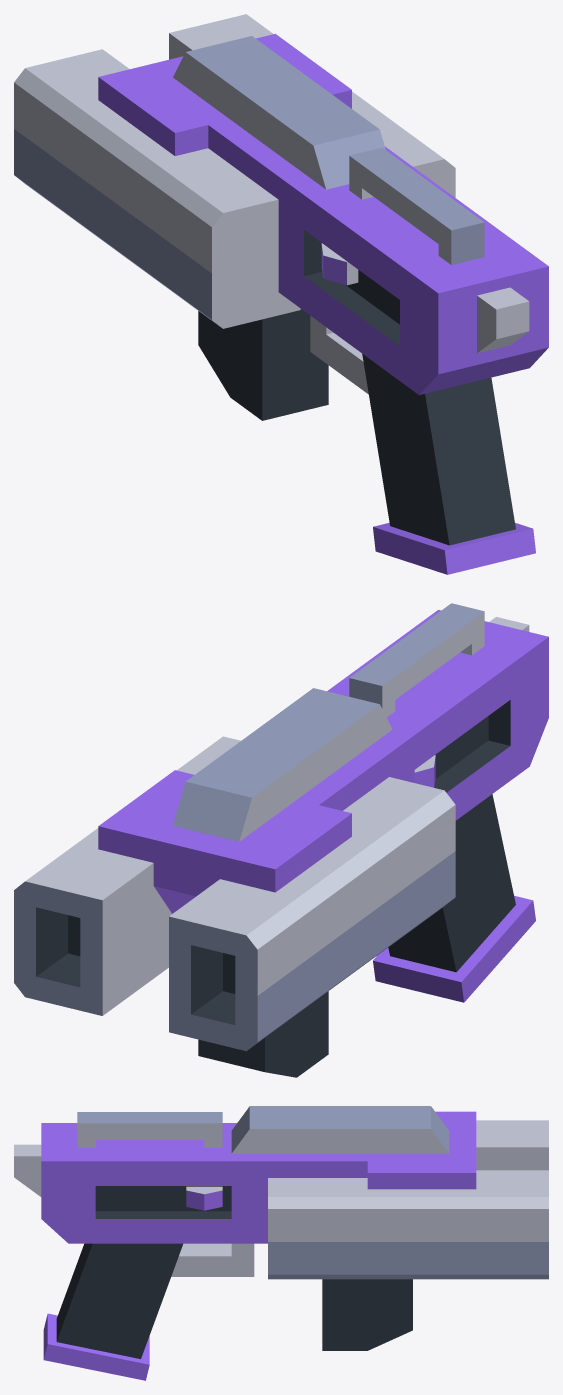
Rendered from blasterL.obj.
3 renders of one model, top to bottom at view 1: azimuth 30°, elevation 25°; view 2: azimuth 150°, elevation 25°; view 3: azimuth 270°, elevation 25°, orthographic. The views are drawn at different scales.
Parts seen in each view (by area): view 1: blasterL; view 2: blasterL; view 3: blasterL.
Part boxes in pixels (left/top/right/bottom): blasterL: left=14, top=14, right=548, bottom=574; blasterL: left=14, top=603, right=548, bottom=1077; blasterL: left=14, top=1106, right=548, bottom=1380.
Size of the model in its own units: 0.22 by 0.3017 by 0.59.
